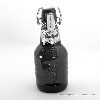beer: (33, 6, 71, 100)
